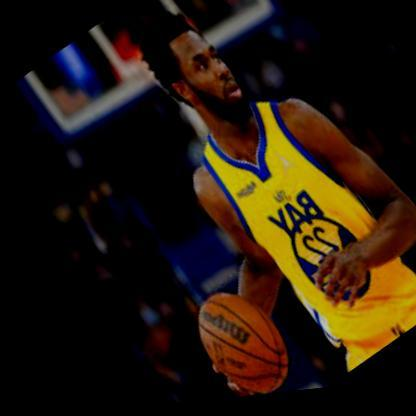basketball: (164, 276, 297, 405)
